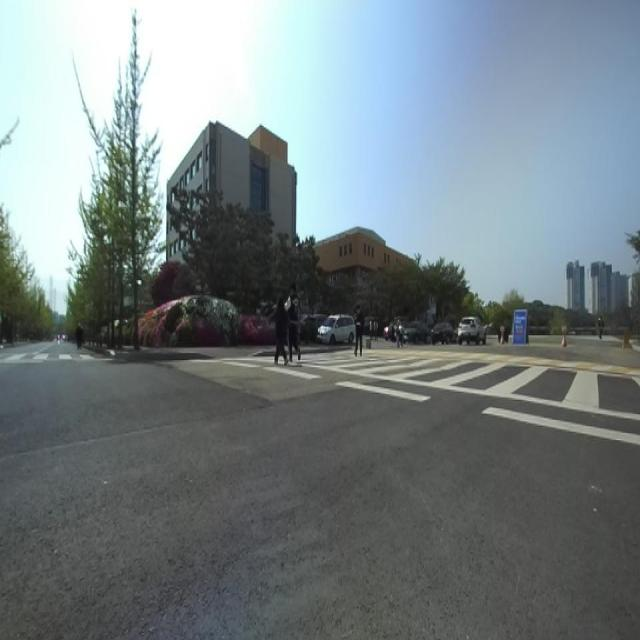sidewalk: (163, 347, 274, 360)
